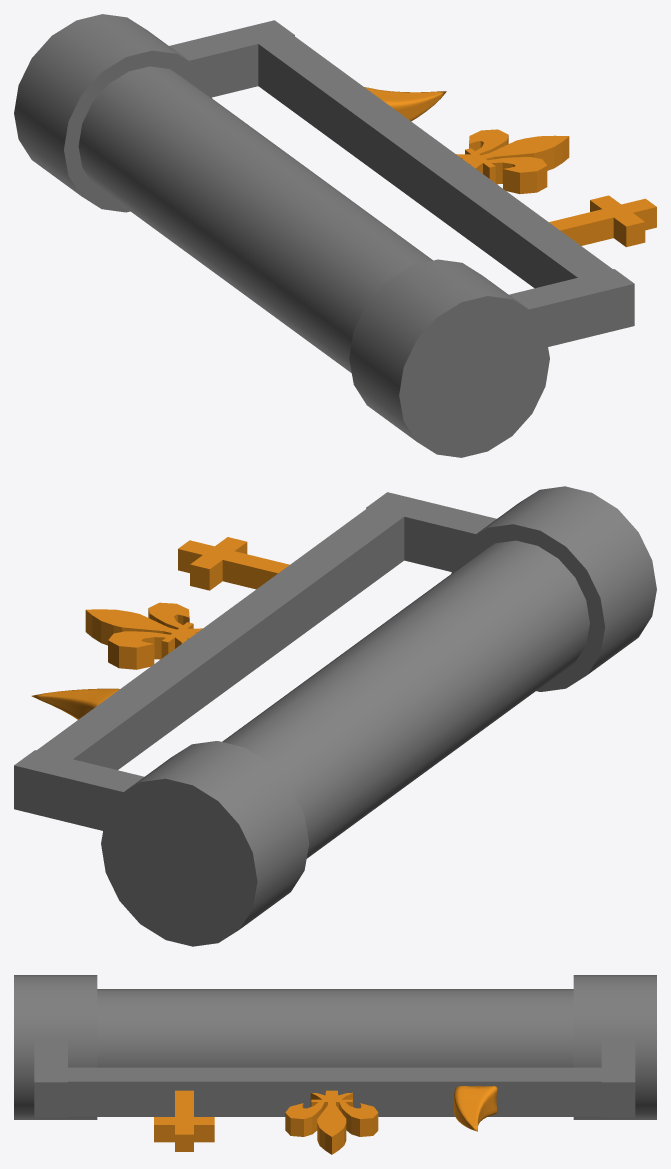
Rendered from cadenas.fbx.
3 views of the same model, one above another, from view 1: azimuth 30°, elevation 25°; view 2: azimuth 150°, elevation 25°; view 3: azimuth 270°, elevation 25° (orthographic). The views are drawn at different scales.
Visible parts, largest first — view 1: Cylinder011; view 2: Cylinder011; view 3: Cylinder011.
Boxes of the visible parts, box(x1,y1,x2,y2) form: Cylinder011: box(14, 14, 656, 457); Cylinder011: box(14, 486, 656, 946); Cylinder011: box(14, 975, 656, 1154).
Bounding box in the file's own units: 0.13 × 0.0536 × 0.2406.
